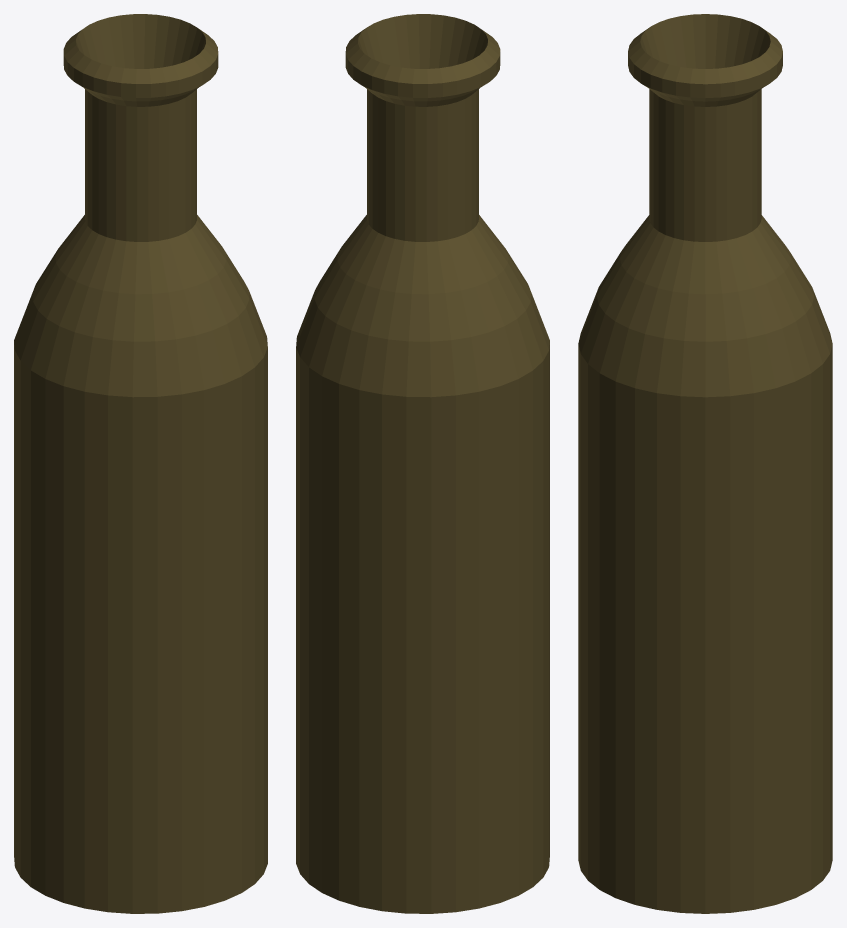
Rendered from Bottle.glb.
3 renders of one model, left to right at view 1: azimuth 30°, elevation 25°; view 2: azimuth 150°, elevation 25°; view 3: azimuth 270°, elevation 25°, orthographic.
Visible parts, largest first — view 1: Cylinder; view 2: Cylinder; view 3: Cylinder.
Boxes of the visible parts, x1,y1,x2,y2 form: Cylinder: [14, 14, 267, 913]; Cylinder: [296, 14, 549, 913]; Cylinder: [578, 14, 832, 913].
Bounding box in the file's own units: 0.892 × 3.17 × 0.892.
